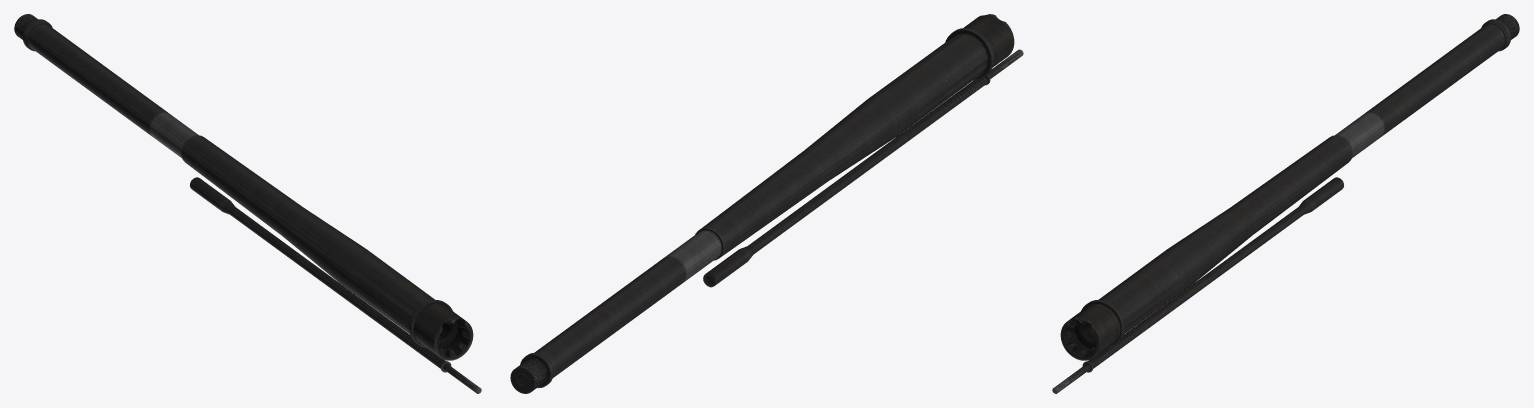
The picture shows the model from 3 angles, left to right: view 1: azimuth 30°, elevation 25°; view 2: azimuth 150°, elevation 25°; view 3: azimuth 330°, elevation 25°; orthographic projection. The views are drawn at different scales.
Visible parts, largest first — view 1: TW_5fc23678ab884124df0cd590_PZ_Import; view 2: TW_5fc23678ab884124df0cd590_PZ_Import; view 3: TW_5fc23678ab884124df0cd590_PZ_Import.
Part boxes in pixels (x1=…): TW_5fc23678ab884124df0cd590_PZ_Import: x1=14, y1=14, x2=481, y2=393; TW_5fc23678ab884124df0cd590_PZ_Import: x1=510, y1=14, x2=1023, y2=393; TW_5fc23678ab884124df0cd590_PZ_Import: x1=1052, y1=14, x2=1519, y2=393.
Bounding box in the file's own units: 0.0206 × 0.3739 × 0.0281.
Materials: 1 (1 with a texture image).
